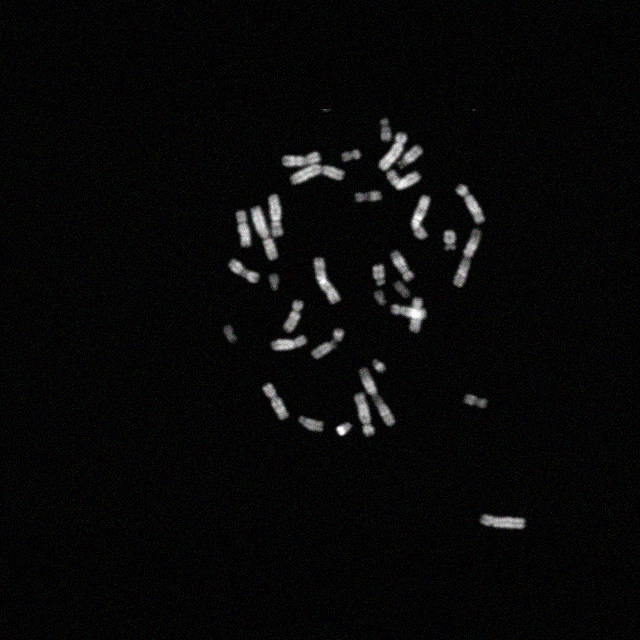chromosome: (360, 368, 394, 428), (453, 228, 481, 288), (250, 206, 278, 260), (455, 184, 485, 224), (314, 258, 340, 304), (379, 132, 407, 170), (262, 382, 288, 420), (292, 164, 344, 183), (312, 329, 344, 359), (411, 195, 431, 239), (354, 393, 374, 437), (390, 250, 414, 282), (229, 259, 259, 283), (386, 170, 420, 190), (236, 210, 252, 248), (282, 150, 320, 166), (269, 195, 283, 238), (398, 145, 422, 169), (284, 300, 302, 332), (478, 516, 524, 528), (391, 305, 427, 319), (272, 337, 306, 351), (410, 298, 422, 332), (298, 416, 322, 432), (464, 395, 488, 409), (381, 118, 392, 142), (355, 192, 381, 202), (394, 282, 410, 298), (342, 150, 361, 162), (372, 290, 386, 306), (336, 422, 352, 436), (374, 264, 384, 286), (444, 231, 456, 249), (373, 358, 385, 374), (224, 326, 236, 342), (270, 275, 278, 291)
